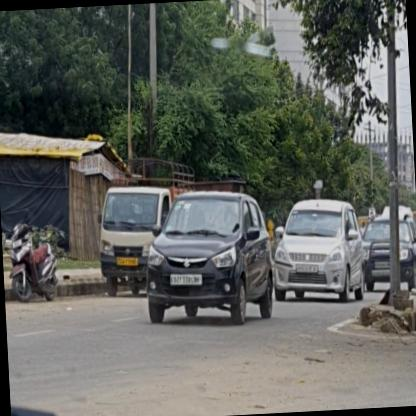car: (142, 188, 274, 330), (269, 195, 365, 304), (358, 218, 415, 296)
motorcycle: (6, 214, 60, 302)
truck: (94, 156, 201, 298)
